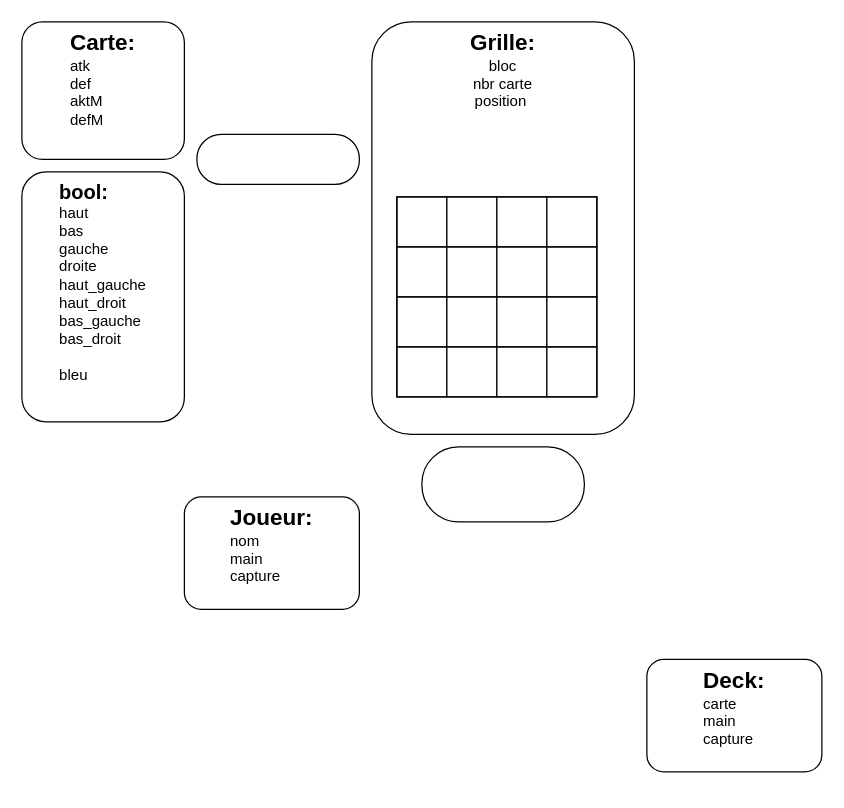
This 844x808 diagram has some shape labels left out. Each missing label, with the centre of its shape:
Affichage règles: the point at 502,484
si arrive à 0: the point at 277,158
